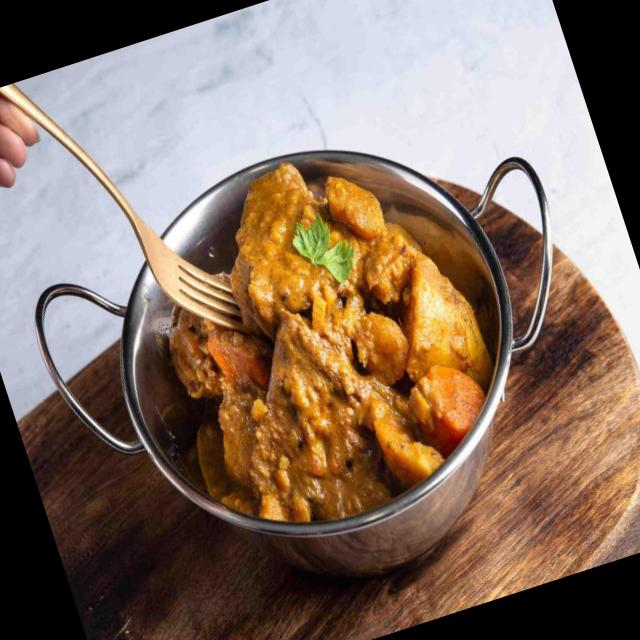chicken: (99, 118, 534, 553)
